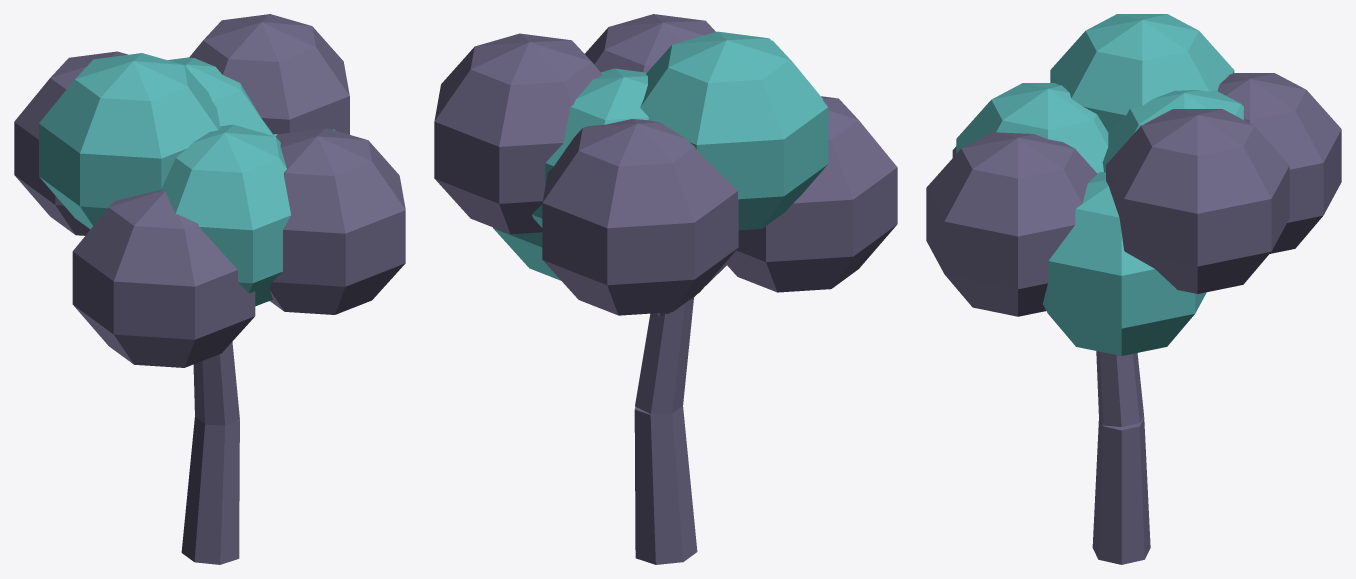
File: vegetation-alien-tree.lod0.glb
3 renders of one model, left to right at view 1: azimuth 30°, elevation 25°; view 2: azimuth 150°, elevation 25°; view 3: azimuth 270°, elevation 25°, orthographic. The views are drawn at different scales.
Parts seen in each view (by area): view 1: vegetation-alien-tree__body; view 2: vegetation-alien-tree__body; view 3: vegetation-alien-tree__body.
Boxes of the visible parts, left/top/right/bottom form: vegetation-alien-tree__body: left=14, top=14, right=405, bottom=564; vegetation-alien-tree__body: left=434, top=14, right=897, bottom=564; vegetation-alien-tree__body: left=926, top=14, right=1341, bottom=564.
Bounding box in the file's own units: 3.79 × 5.56 × 4.19.
